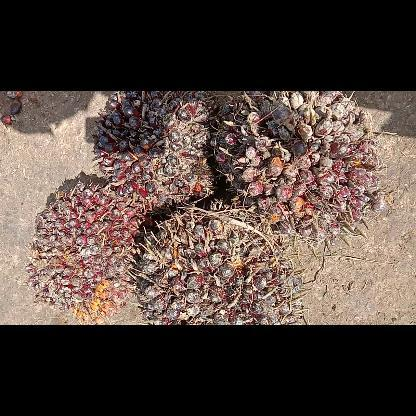Kurang masak: (214, 91, 390, 241), (140, 210, 312, 324), (25, 178, 152, 324), (94, 90, 218, 206)
